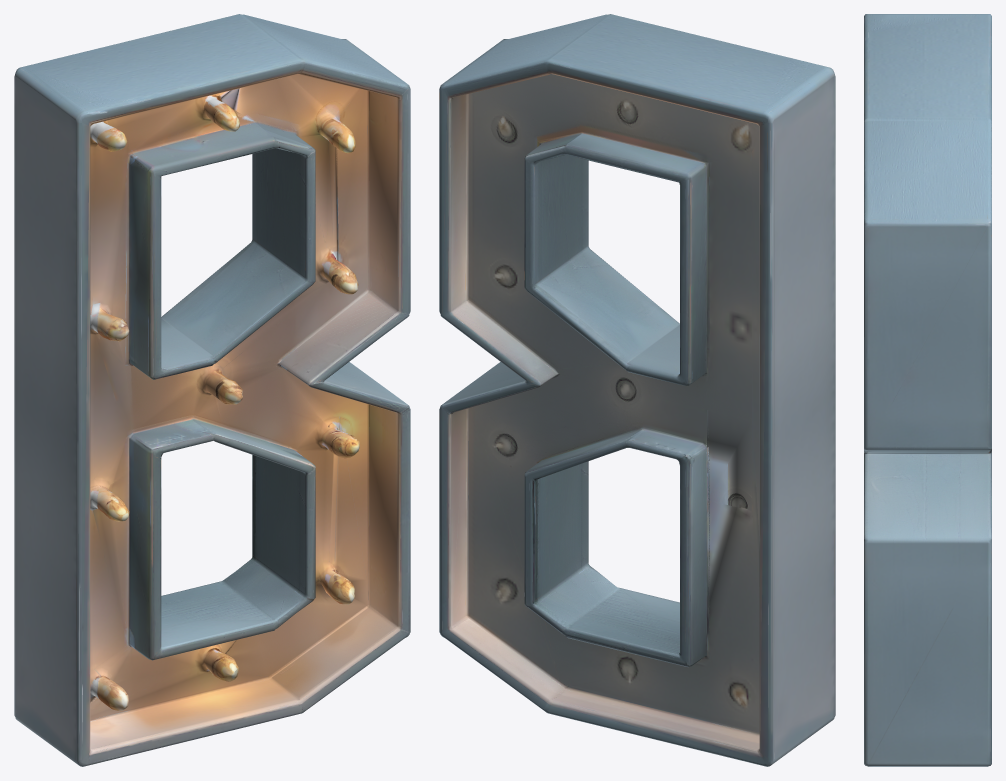
File: Letter_b_603000423_texture.glb
3 renders of one model, left to right at view 1: azimuth 30°, elevation 25°; view 2: azimuth 150°, elevation 25°; view 3: azimuth 270°, elevation 25°, orthographic.
Visible parts, largest first — view 1: Mesh_0.001; view 2: Mesh_0.001; view 3: Mesh_0.001.
Part boxes in pixels (x1,y1,x2,y2): Mesh_0.001: [14, 14, 410, 766]; Mesh_0.001: [439, 14, 835, 766]; Mesh_0.001: [864, 14, 991, 766].
Size of the model in its own units: 0.4861 by 0.914 by 0.1633.
1 material, 1 textured.
